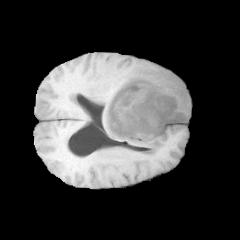glioma: (103, 63, 191, 149)
